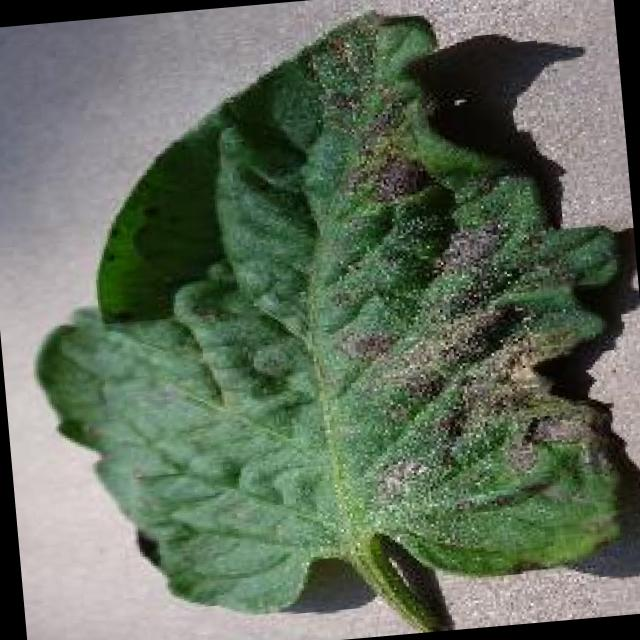Tomato_Early_Blight: (308, 0, 637, 566)
